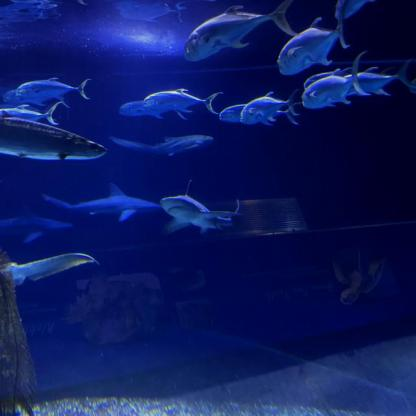fish: (179, 0, 297, 60), (0, 113, 118, 160), (271, 20, 347, 80), (299, 56, 371, 110), (108, 132, 210, 159), (346, 60, 409, 95), (236, 91, 300, 125), (15, 76, 95, 101), (142, 89, 220, 113), (302, 66, 371, 93), (211, 105, 303, 124), (116, 99, 192, 121), (327, 0, 394, 22), (0, 108, 72, 127), (0, 88, 67, 104), (406, 74, 416, 100)
shark: (48, 190, 159, 222), (162, 196, 245, 235), (0, 210, 72, 242)
